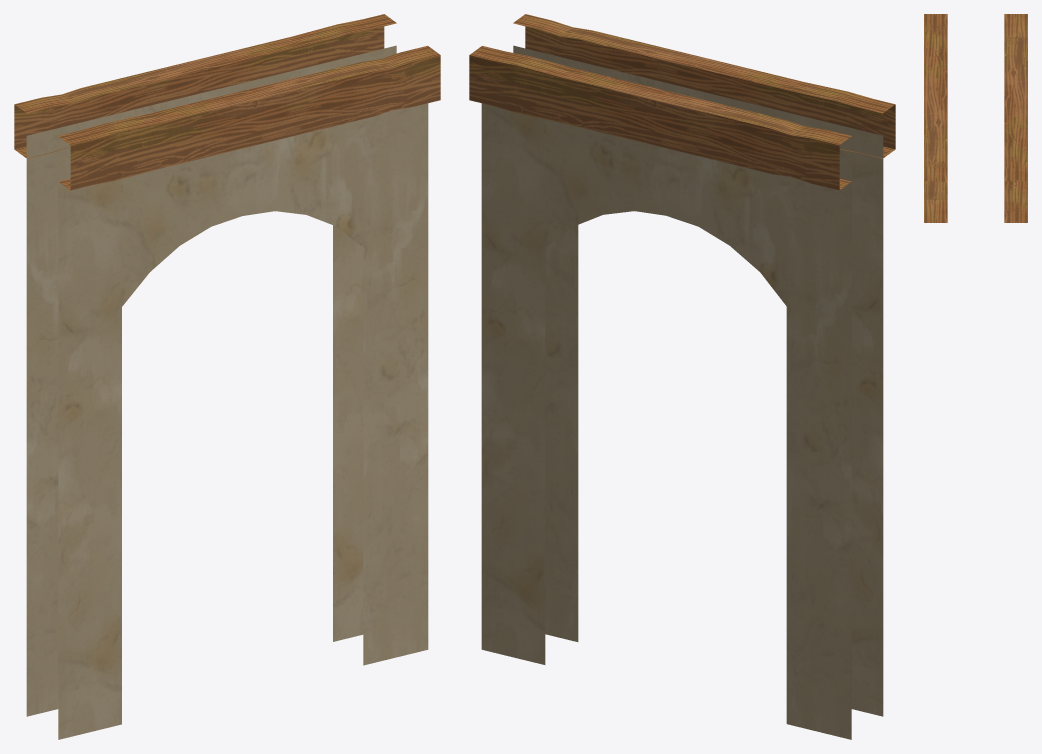
Rendered from door_new.glb.
The picture shows the model from 3 angles, left to right: view 1: azimuth 30°, elevation 25°; view 2: azimuth 150°, elevation 25°; view 3: azimuth 270°, elevation 25°; orthographic projection. The views are drawn at different scales.
Visible parts, largest first — view 1: Wall_Plaster_Door_Round; view 2: Wall_Plaster_Door_Round; view 3: Wall_Plaster_Door_Round.
Part boxes in pixels (x1,y1,x2,y2): Wall_Plaster_Door_Round: (14, 14, 440, 739); Wall_Plaster_Door_Round: (469, 14, 895, 739); Wall_Plaster_Door_Round: (924, 14, 1027, 222).
Bounding box in the file's own units: 2 × 3.12 × 0.5248.
Materials: 2 (2 with a texture image).
